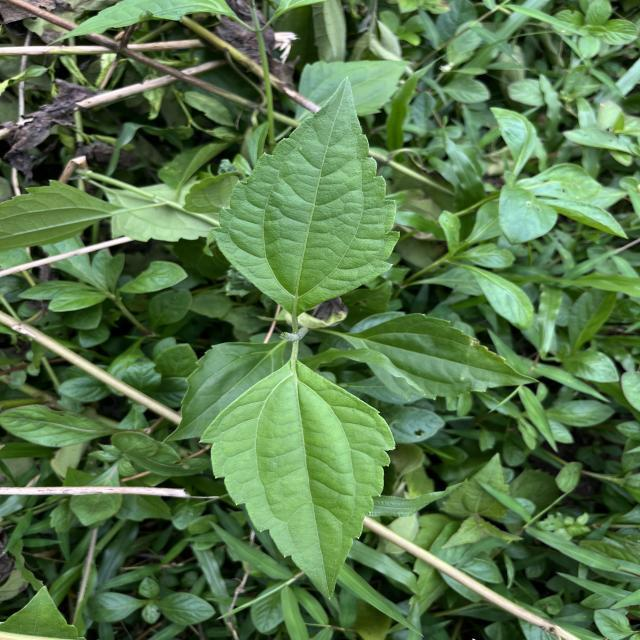Chromolaena odorata: (194, 356, 398, 600), (206, 72, 402, 318)
